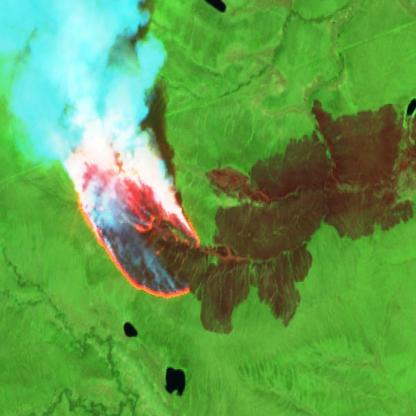fire: (55, 105, 202, 303)
